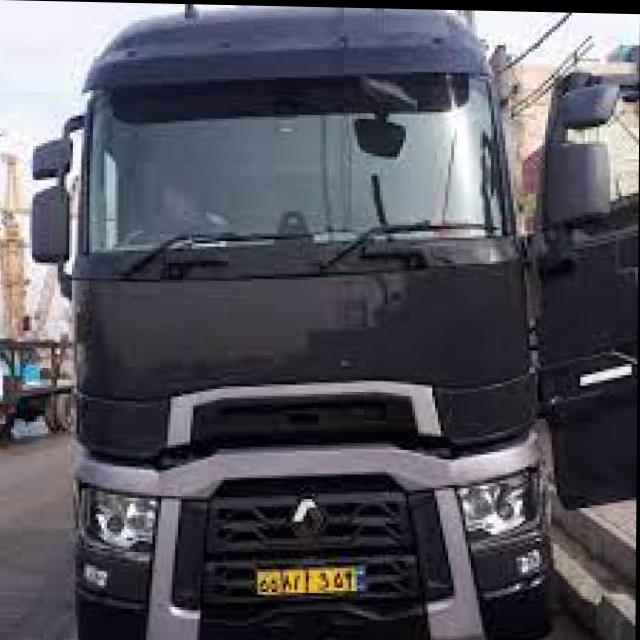licence: (255, 557, 372, 593)
